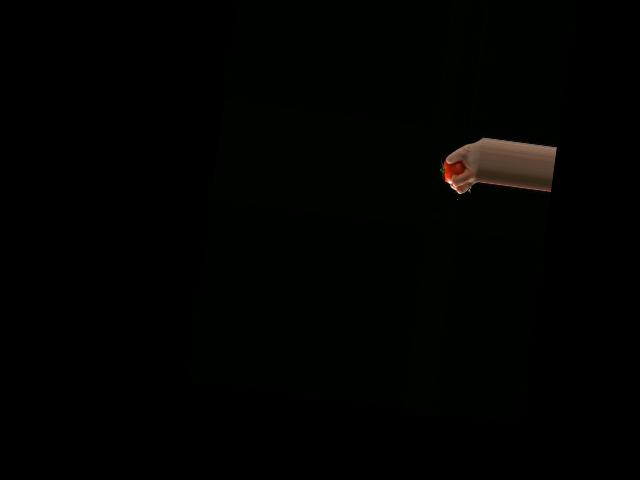tomato: (441, 158, 466, 185)
